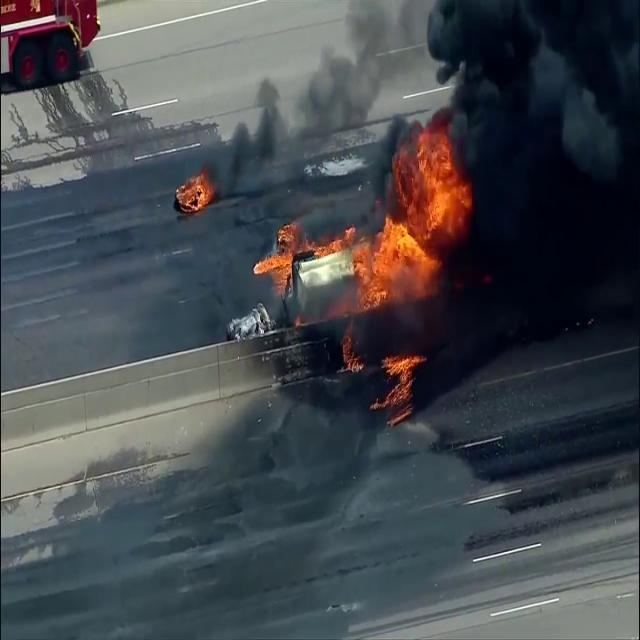Fire: (342, 114, 471, 343), (253, 220, 302, 296), (173, 165, 215, 214)
Smoke: (422, 1, 640, 360), (214, 7, 400, 216)
